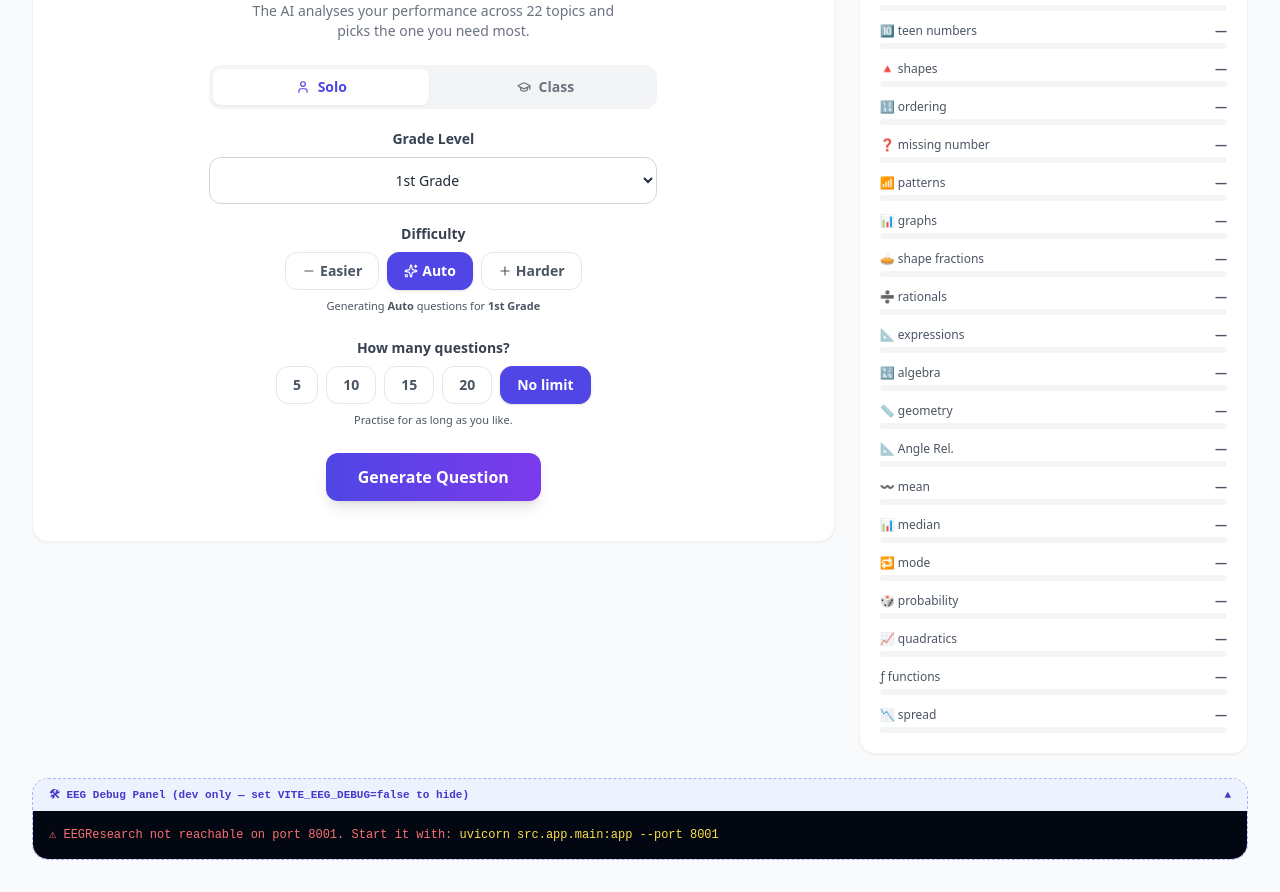
Test: keeps the headband card off RECORDING when only the camera is being saved
(page scrolled)
Click the button "Generate Question". click: (433, 476)
box: [326,452,541,500]
(page scrolled)
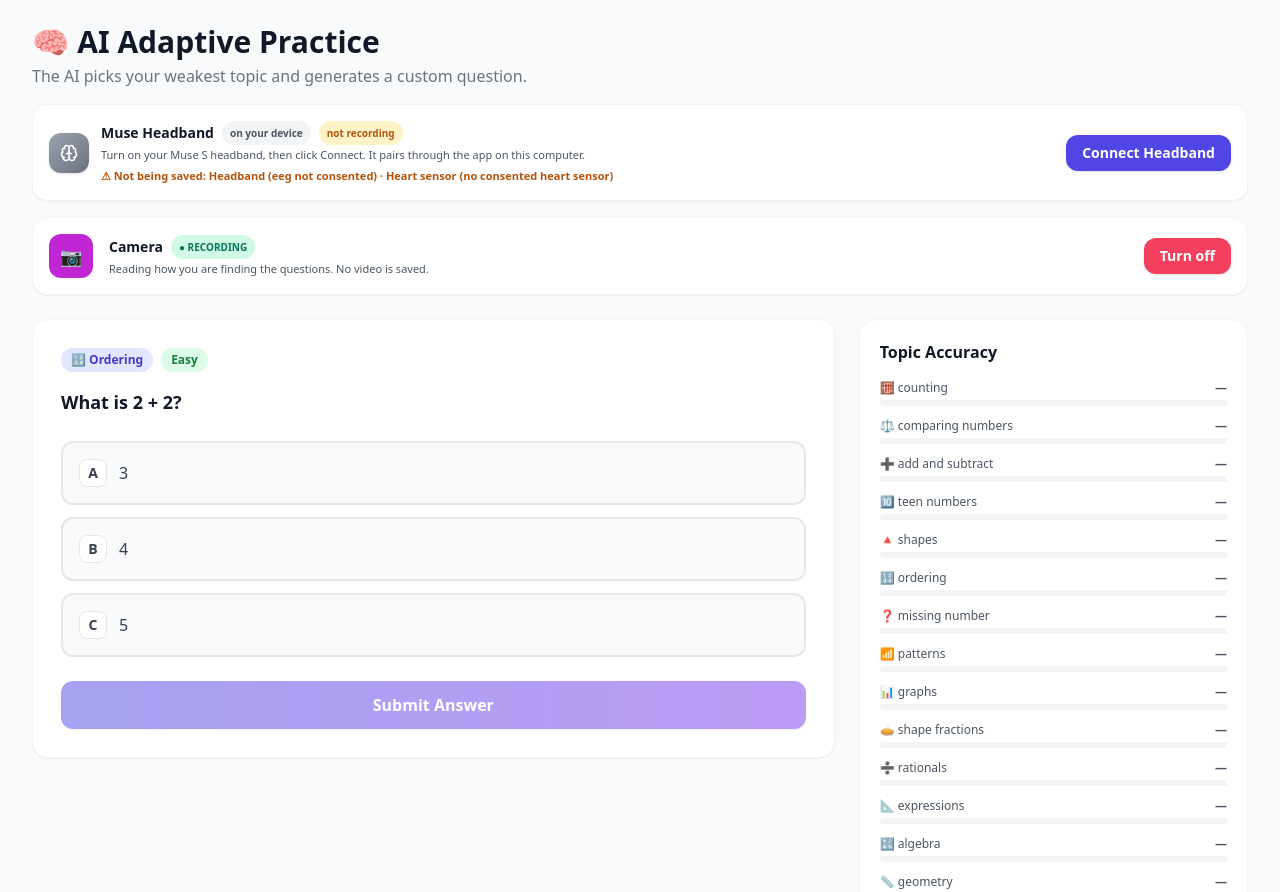
Check: the text "What is 2 + 2?" is shown, box [61,390,182,414]
Check: the text "Not being saved:" shows "Headband (eeg not consented)", box [209,168,613,182]
Check: the text "● RECORDING" is shown, box [171,235,255,259]
